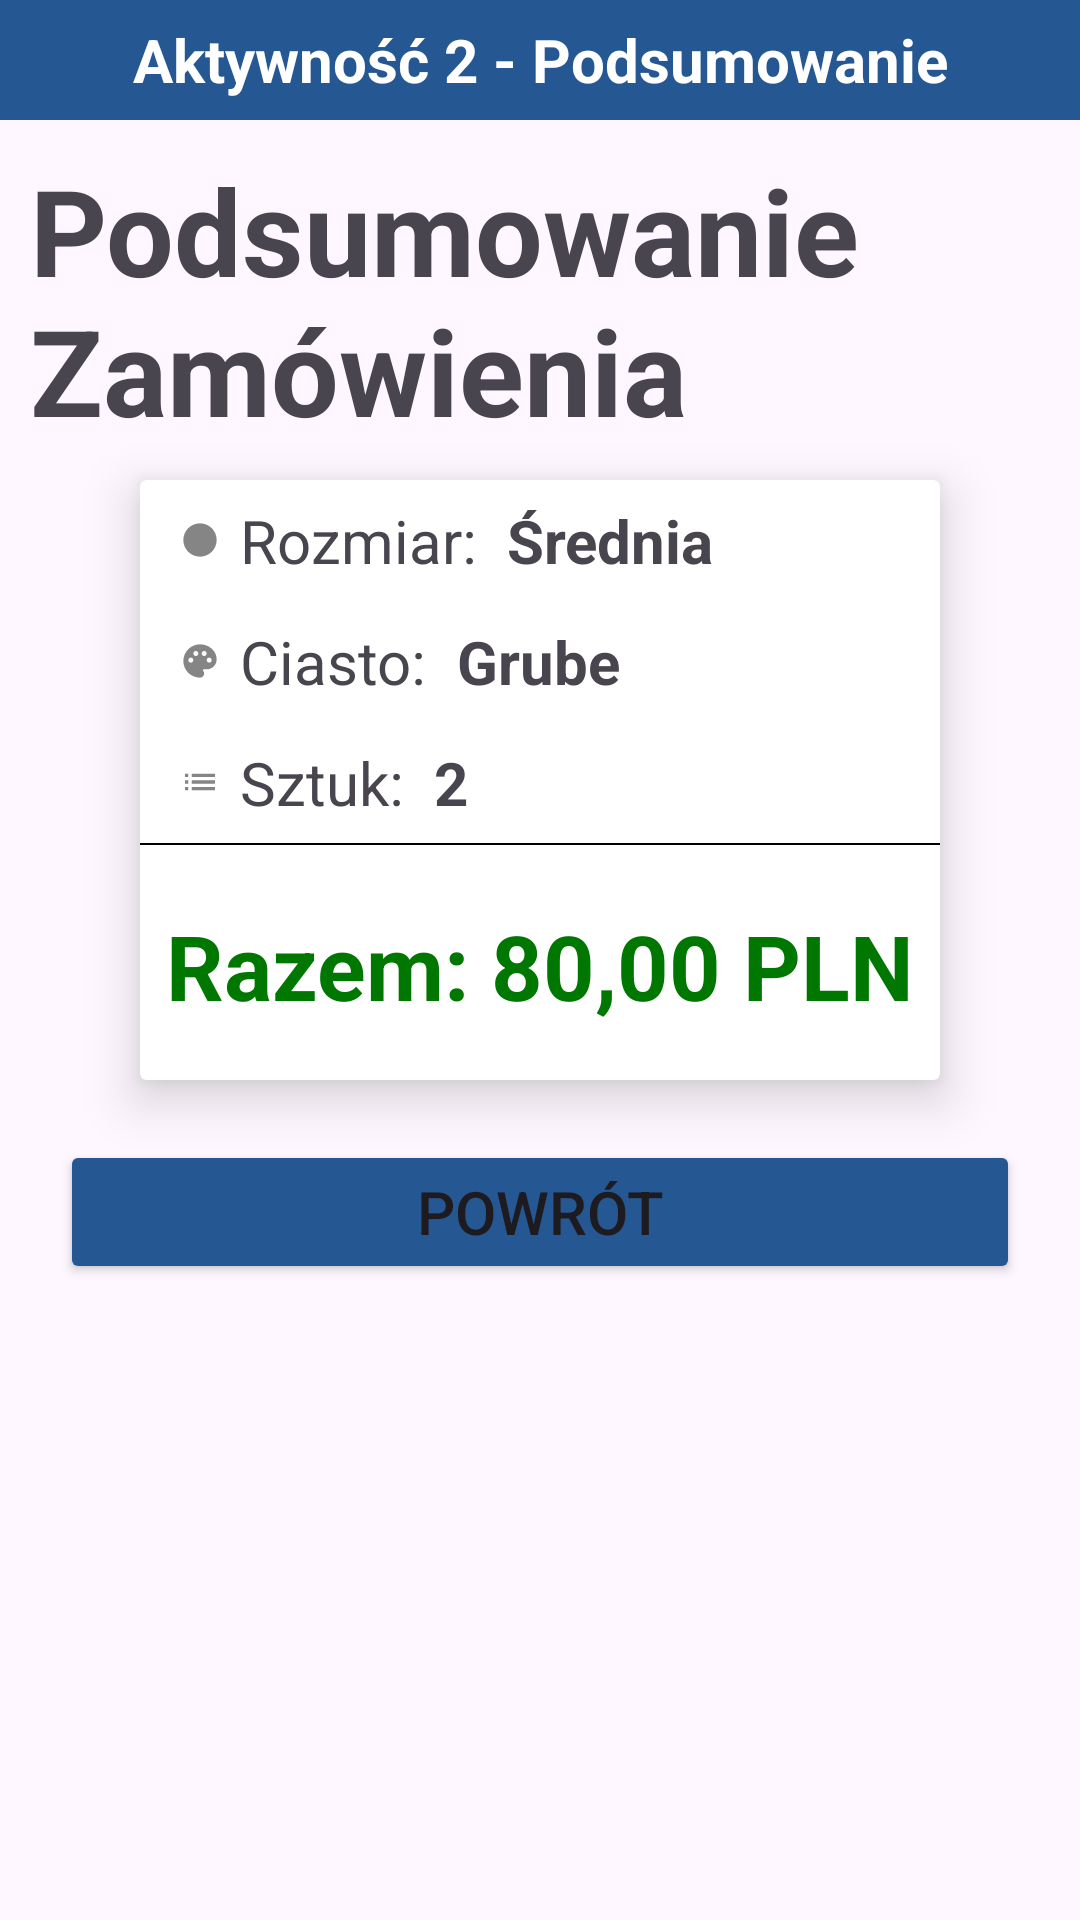

Screen size 1080*1920. Icon name, then its box in pixels as [x1=x1, y1=y1, x2=x2, y2=y2]:
list: [x1=185, y1=773, x2=215, y2=791]
palette: [x1=183, y1=644, x2=217, y2=678]
